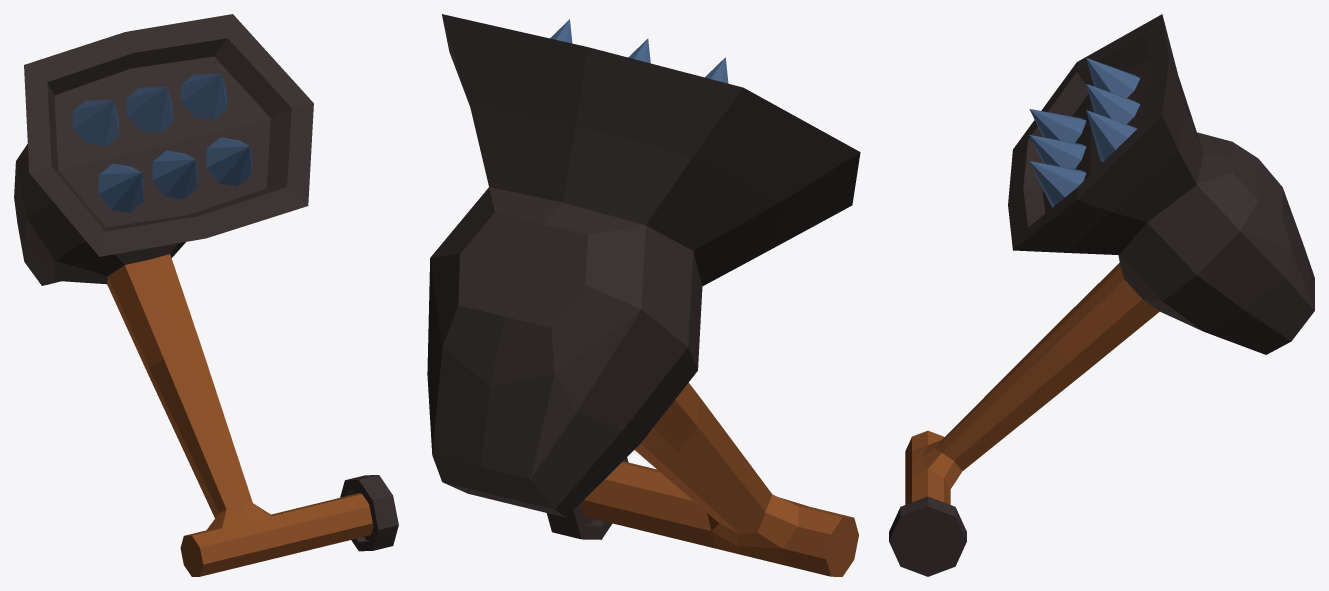
Rendered from Hammer Hand R.fbx.
3 renders of one model, left to right at view 1: azimuth 30°, elevation 25°; view 2: azimuth 150°, elevation 25°; view 3: azimuth 270°, elevation 25°, orthographic. The views are drawn at different scales.
Visible parts, largest first — view 1: Hammer Hand.R; view 2: Hammer Hand.R; view 3: Hammer Hand.R.
Part boxes in pixels (left/top/right/bottom): Hammer Hand.R: left=14, top=14, right=398, bottom=576; Hammer Hand.R: left=427, top=14, right=860, bottom=576; Hammer Hand.R: left=889, top=14, right=1314, bottom=576.
Bounding box in the file's own units: 6.53 × 10.03 × 8.54.
